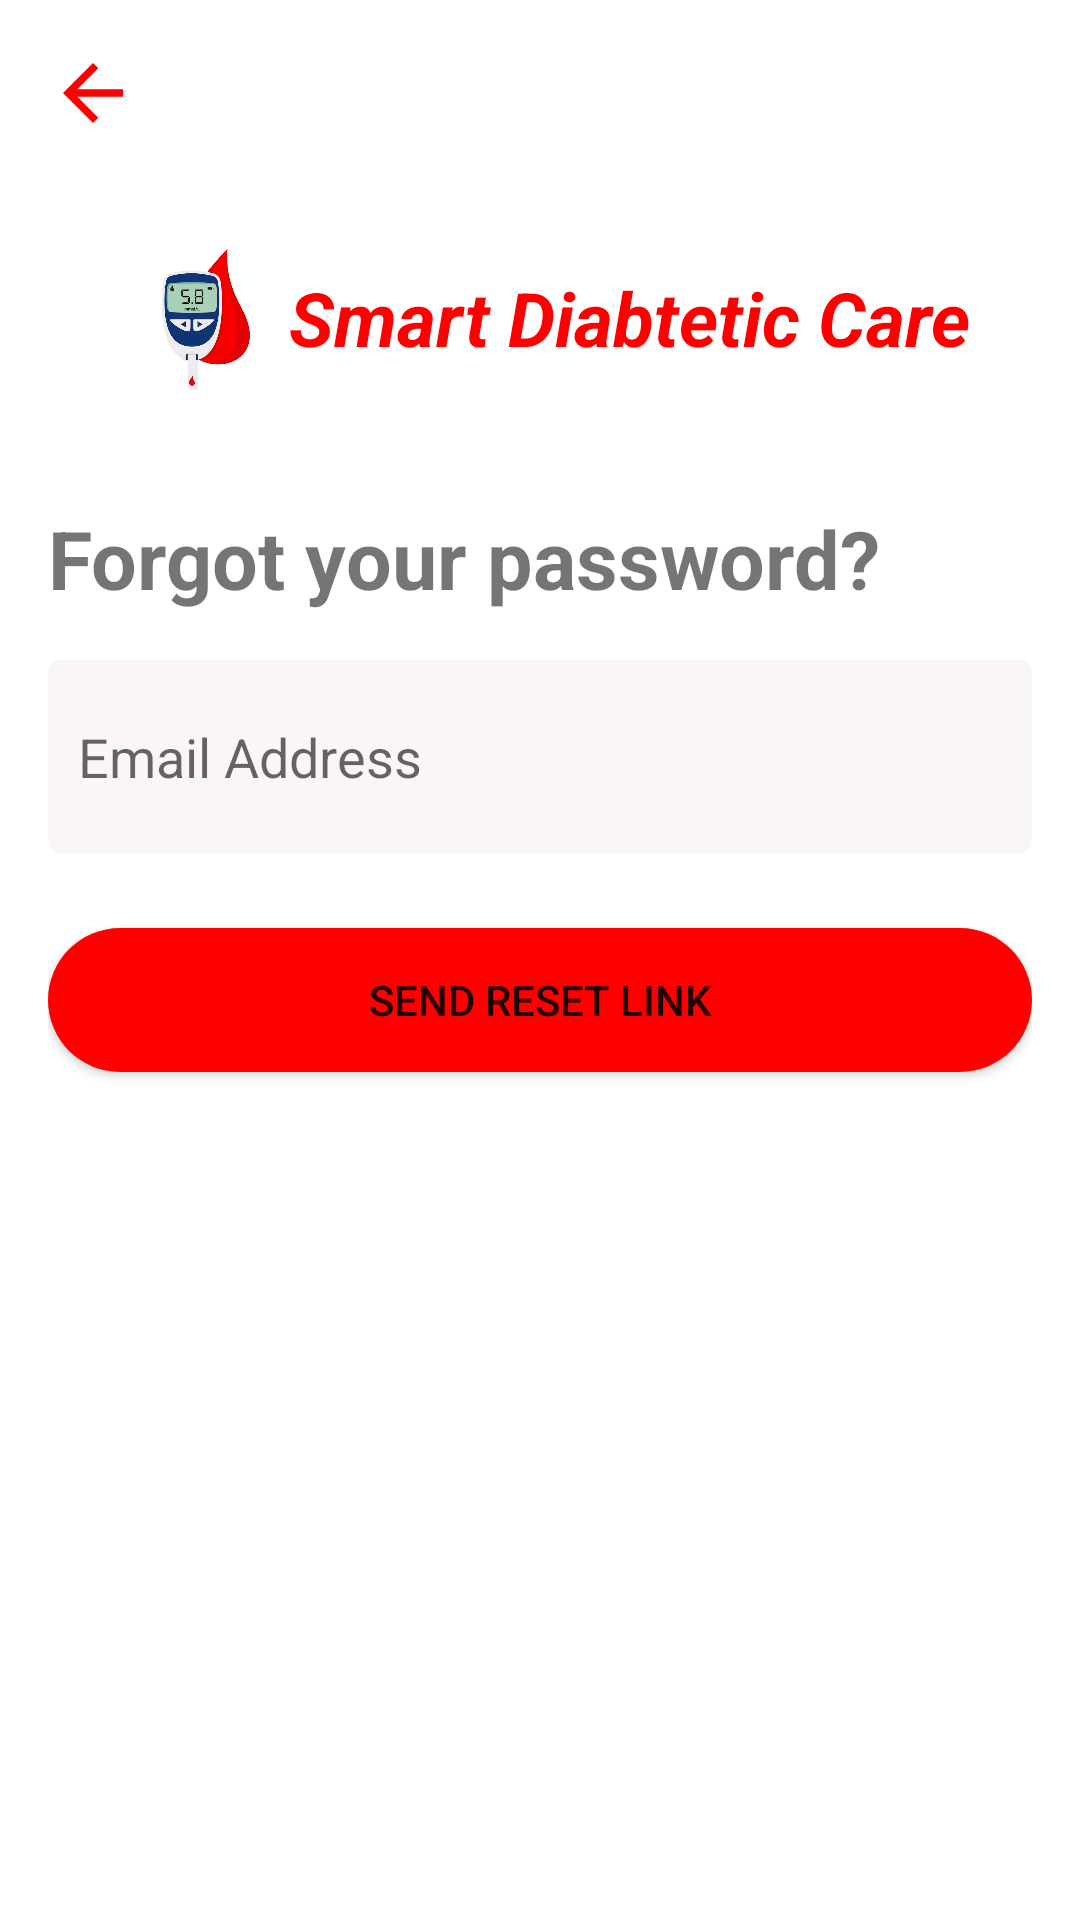

Where icons sit on this 1080 x 1920 app screen, as (x1, y1, x2, y2):
Back: (63, 63, 123, 123)
